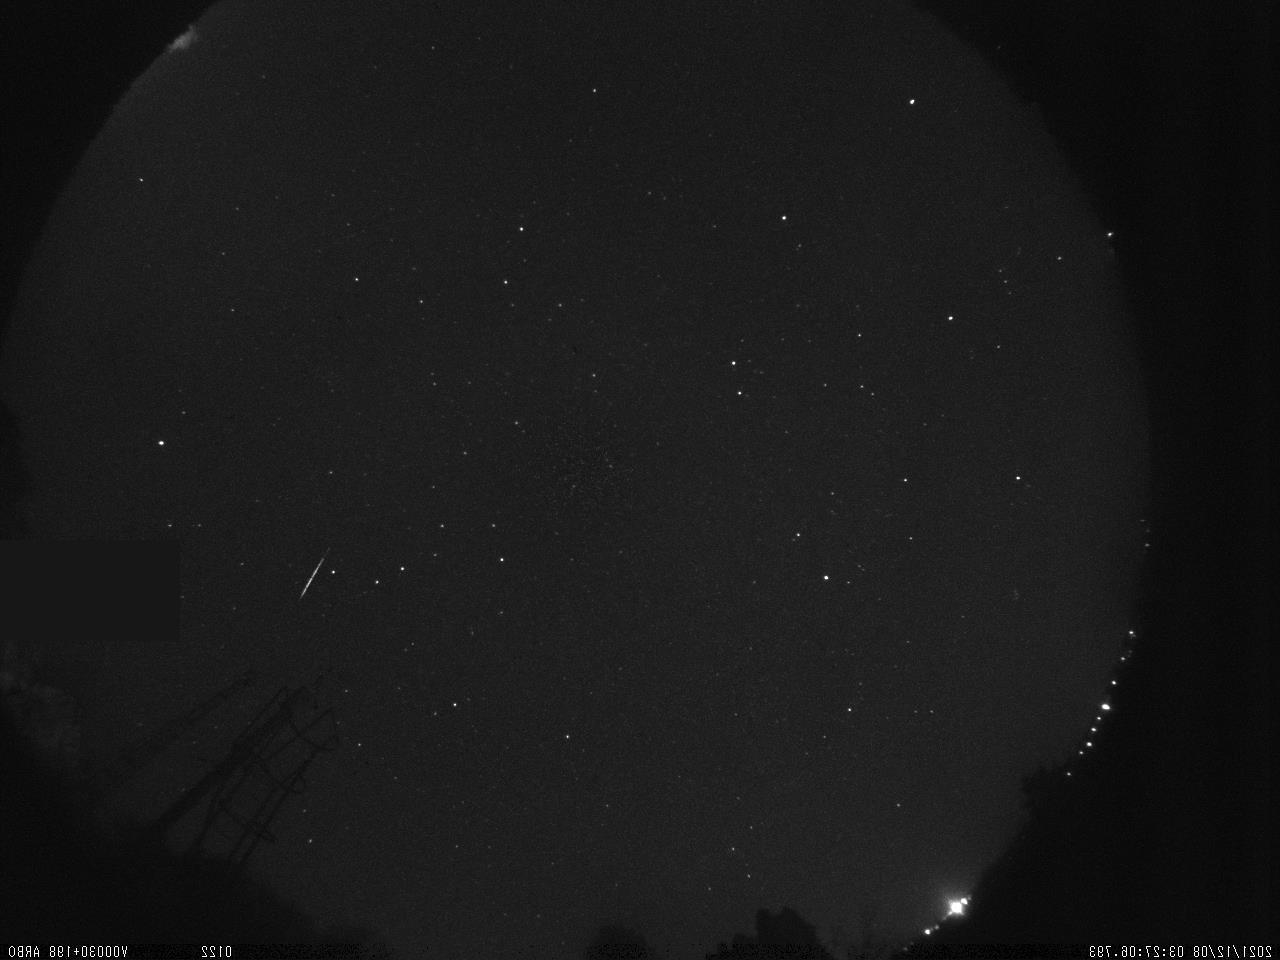meteor: (286, 544, 337, 616)
